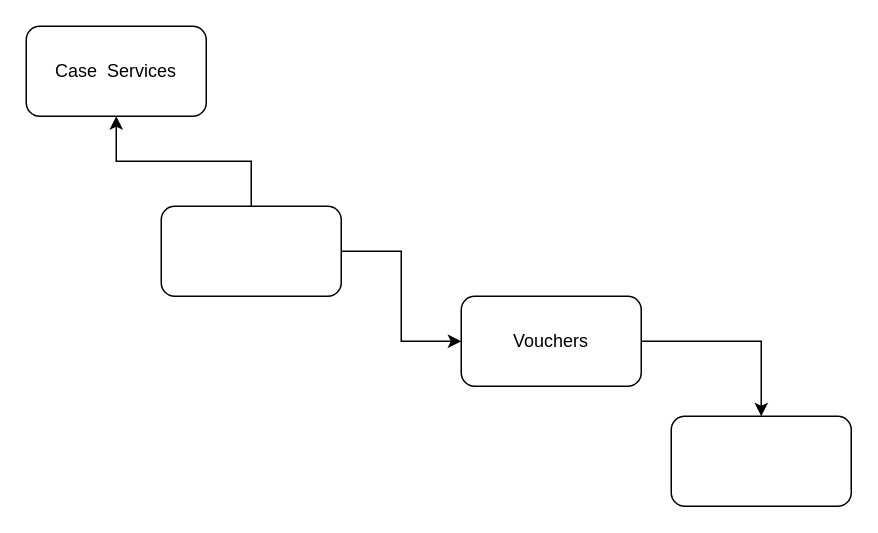
Image size: 878x533. Some labels were removed from this diagram. Here are the shapes that lost their labels. From the top down, the centre of each, then its label:
At point 250,250: "Multiple Authorizations".
At point 760,460: "Journals".
